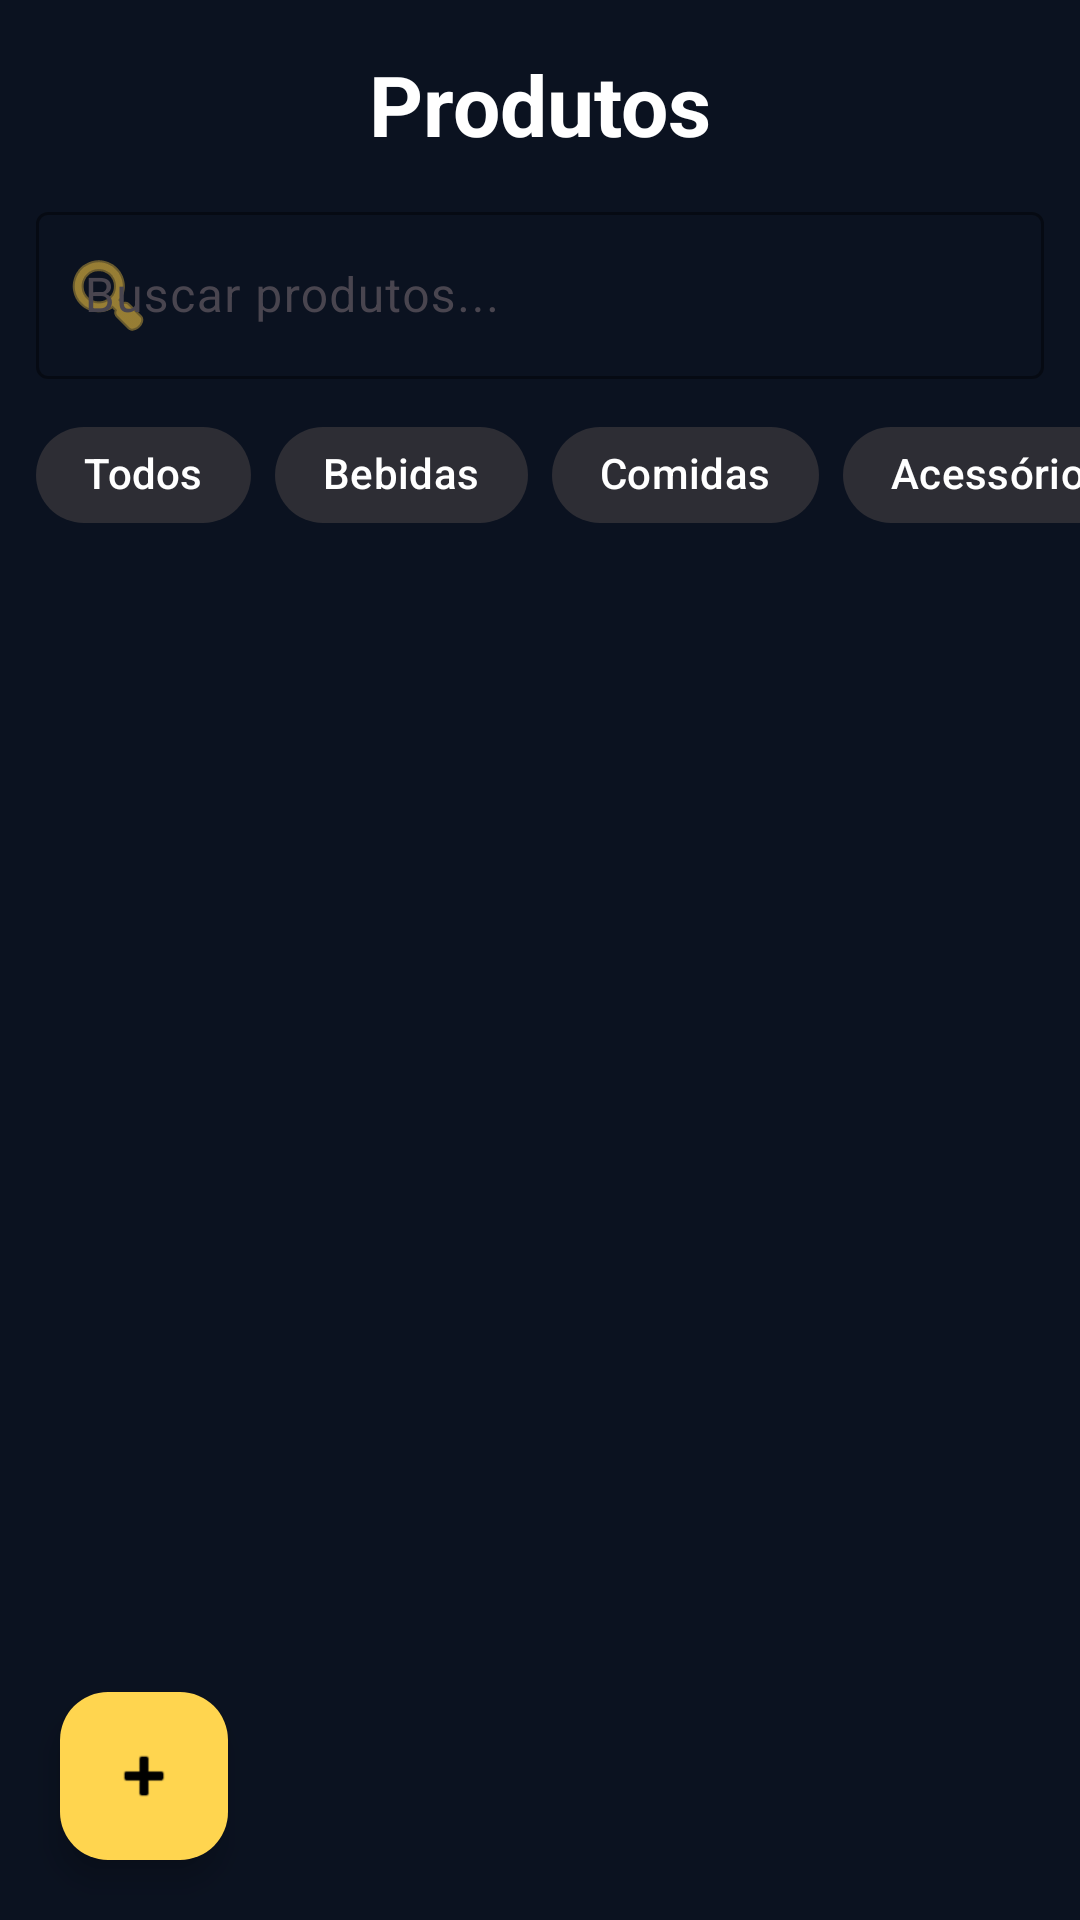

Named icons in this screenshot (1080w x 1920h) and their centers, (x=x, y=y):
Adicionar produto: (x=144, y=1776)
